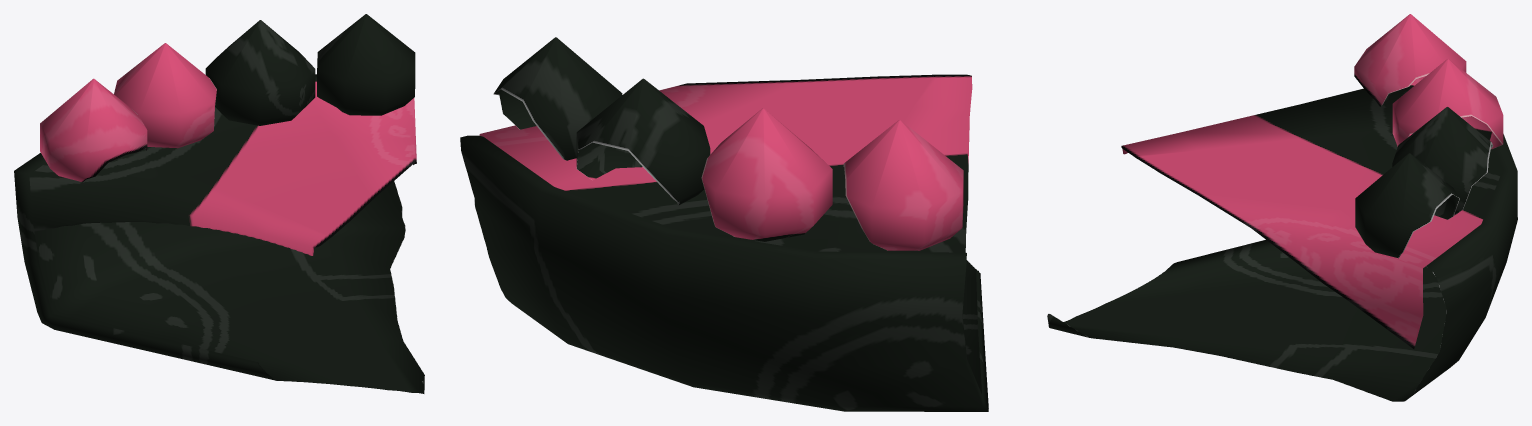
The model's file is DHP_MOD_Keylime_pie.fbx.
3 views of the same model, side by side, from view 1: azimuth 30°, elevation 25°; view 2: azimuth 150°, elevation 25°; view 3: azimuth 270°, elevation 25° (orthographic). The views are drawn at different scales.
Visible parts, largest first — view 1: DHP_MOD_Keylime_pie; view 2: DHP_MOD_Keylime_pie; view 3: DHP_MOD_Keylime_pie.
Part boxes in pixels (x1,y1,x2,y2): DHP_MOD_Keylime_pie: (14,14,424,393); DHP_MOD_Keylime_pie: (460,37,988,411); DHP_MOD_Keylime_pie: (1047,14,1517,401).
Bounding box in the file's own units: 0.5244 × 0.2834 × 0.5473.
